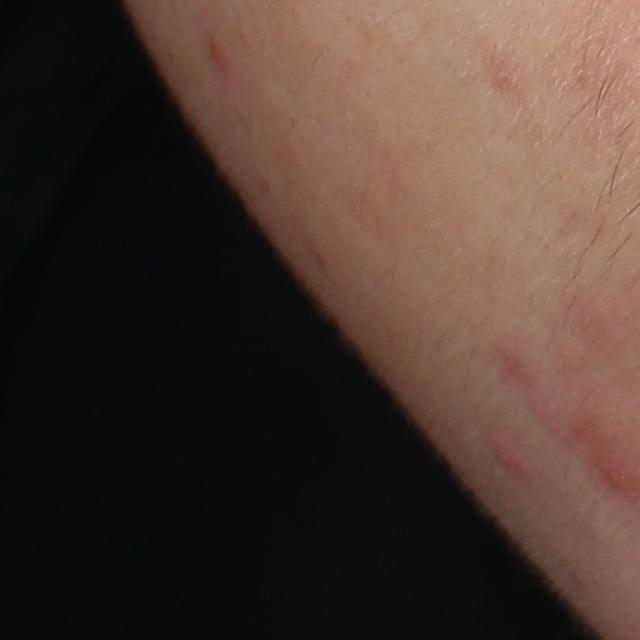papule: (489, 431, 531, 472), (603, 462, 636, 498)
